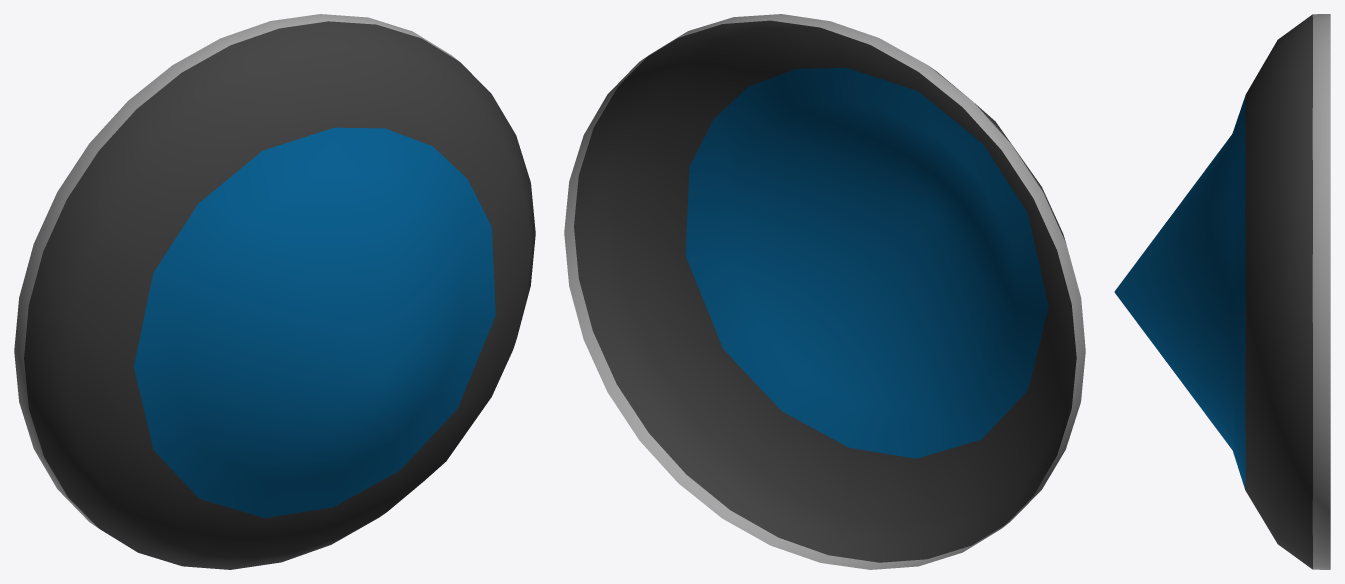
File: Cymbal.glb
3 renders of one model, left to right at view 1: azimuth 30°, elevation 25°; view 2: azimuth 150°, elevation 25°; view 3: azimuth 270°, elevation 25°, orthographic. The views are drawn at different scales.
Parts seen in each view (by area): view 1: Cone.010; view 2: Cone.010; view 3: Cone.010.
Part boxes in pixels (x1,y1,x2,y2): Cone.010: (14, 14, 535, 569); Cone.010: (564, 14, 1085, 569); Cone.010: (1114, 14, 1330, 569).
Bounding box in the file's own units: 0.6007 × 0.5995 × 0.2334.
